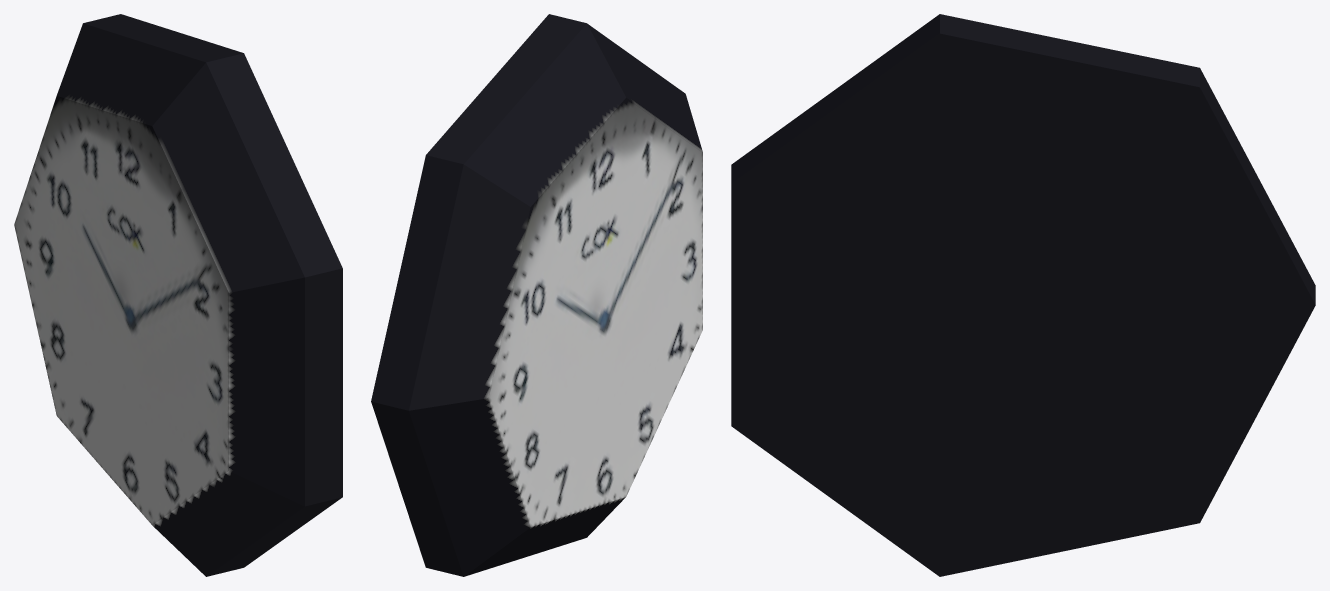
Rendered from Clock.fbx.
3 views of the same model, side by side, from view 1: azimuth 30°, elevation 25°; view 2: azimuth 150°, elevation 25°; view 3: azimuth 270°, elevation 25° (orthographic). The views are drawn at different scales.
Visible parts, largest first — view 1: Clock; view 2: Clock; view 3: Clock.
Boxes of the visible parts, x1=… form: Clock: x1=14, y1=14, x2=342, y2=576; Clock: x1=371, y1=14, x2=702, y2=576; Clock: x1=731, y1=14, x2=1315, y2=576.
Size of the model in its own units: 8.33 by 48.45 by 47.24.
